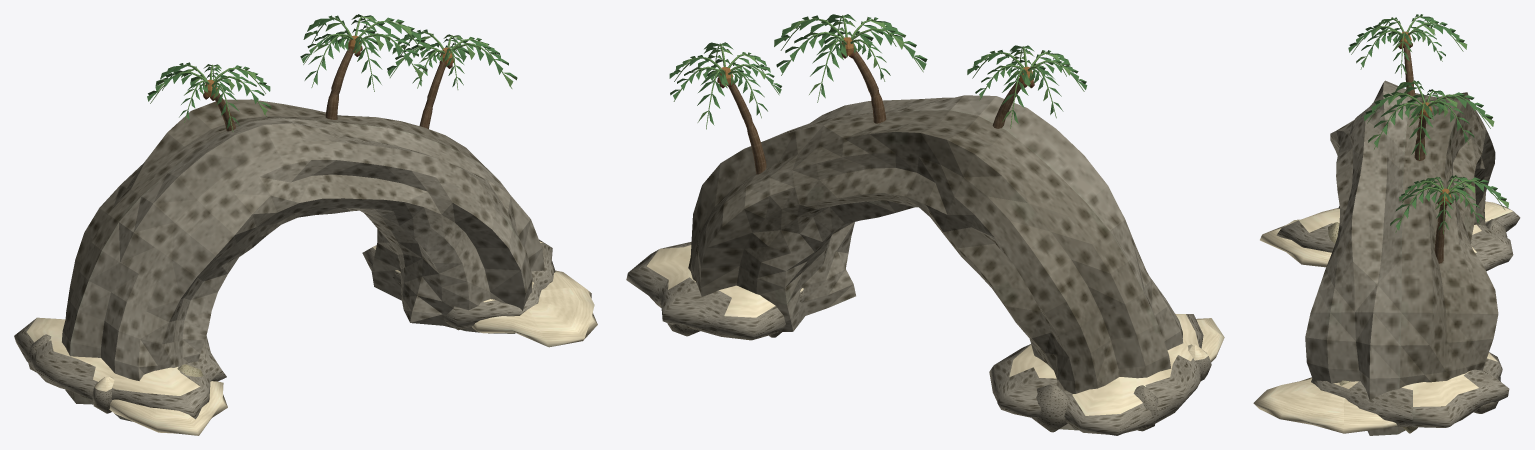
Rendered from lagoon_coral_arch_isle_mid.glb.
The picture shows the model from 3 angles, left to right: view 1: azimuth 30°, elevation 25°; view 2: azimuth 150°, elevation 25°; view 3: azimuth 270°, elevation 25°; orthographic projection. The views are drawn at different scales.
Parts seen in each view (by area): view 1: lagoon_coral_arch_isle_mid; view 2: lagoon_coral_arch_isle_mid; view 3: lagoon_coral_arch_isle_mid.
Boxes of the visible parts, x1,y1,x2,y2 form: lagoon_coral_arch_isle_mid: (14,14,597,435); lagoon_coral_arch_isle_mid: (626,14,1224,435); lagoon_coral_arch_isle_mid: (1253,14,1520,435).
Size of the model in its own units: 24 by 13.5 by 12.
1 material, 1 textured.
